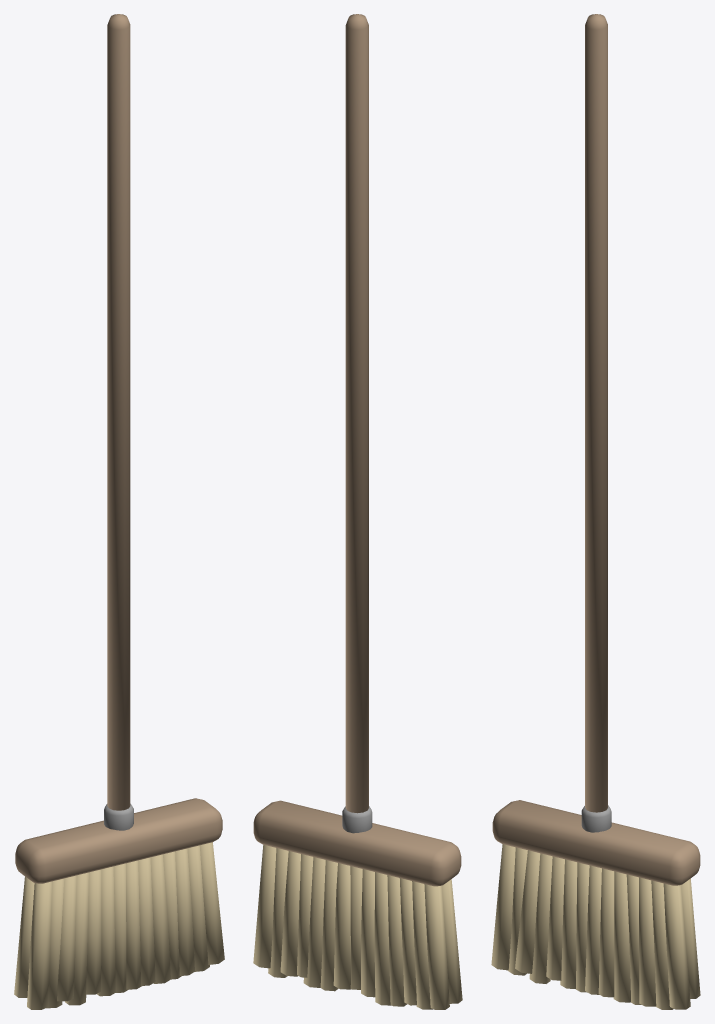
File: cl_broom.glb
The picture shows the model from 3 angles, left to right: view 1: azimuth 30°, elevation 25°; view 2: azimuth 150°, elevation 25°; view 3: azimuth 330°, elevation 25°; orthographic projection.
Visible parts, largest first — view 1: cl_broom; view 2: cl_broom; view 3: cl_broom.
Part boxes in pixels (<box>): cl_broom: <box>14,14,224,1009</box>; cl_broom: <box>253,14,462,1009</box>; cl_broom: <box>491,14,700,1009</box>.
Bounding box in the file's own units: 0.2823 × 1.35 × 0.0601.
